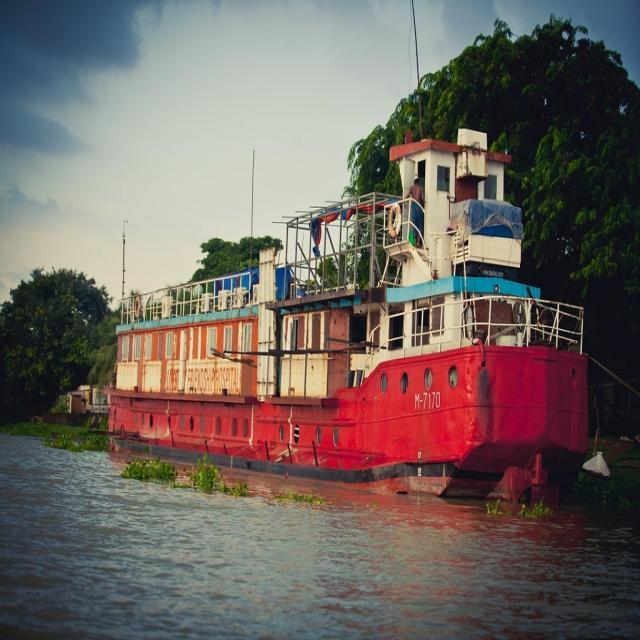Hyacinth: (117, 459, 326, 513), (19, 423, 104, 454), (477, 485, 508, 527), (512, 494, 554, 525)
boat: (106, 115, 594, 501)
